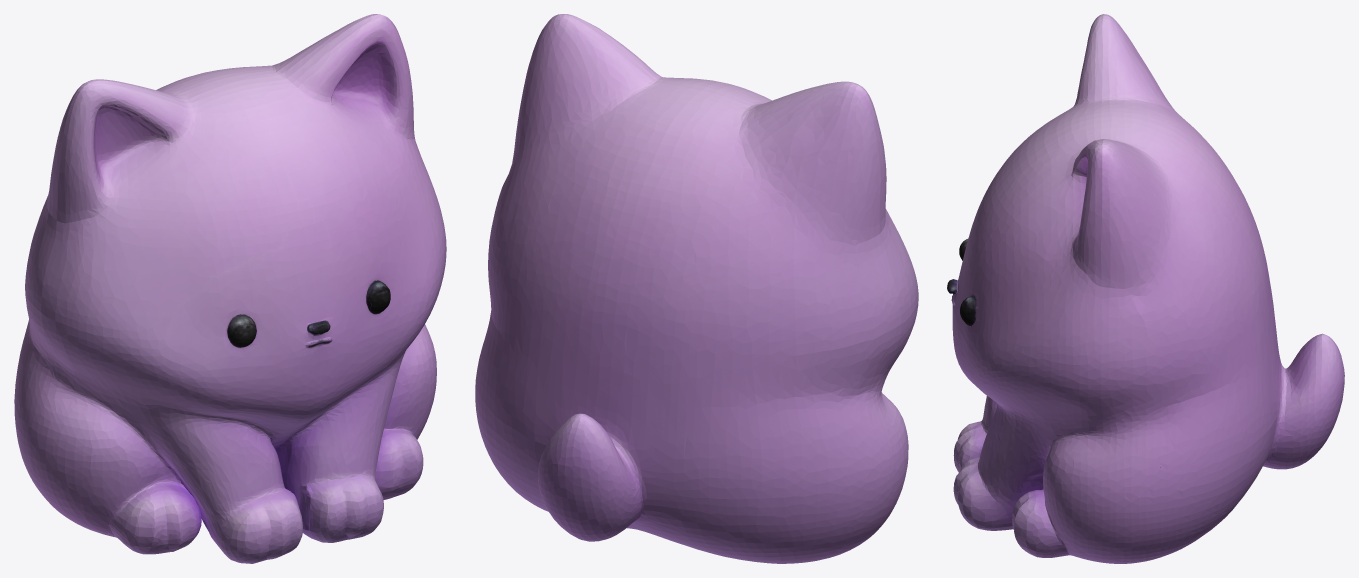
File: cat.glb
The picture shows the model from 3 angles, left to right: view 1: azimuth 30°, elevation 25°; view 2: azimuth 150°, elevation 25°; view 3: azimuth 270°, elevation 25°; orthographic projection. The views are drawn at different scales.
Parts seen in each view (by area): view 1: world; view 2: world; view 3: world.
Boxes of the visible parts, <box> form: world: <box>14,14,446,563</box>; world: <box>475,14,918,563</box>; world: <box>947,14,1344,563</box>.
Bounding box in the file's own units: 0.8938 × 0.999 × 0.8474.
1 material, 1 textured.
